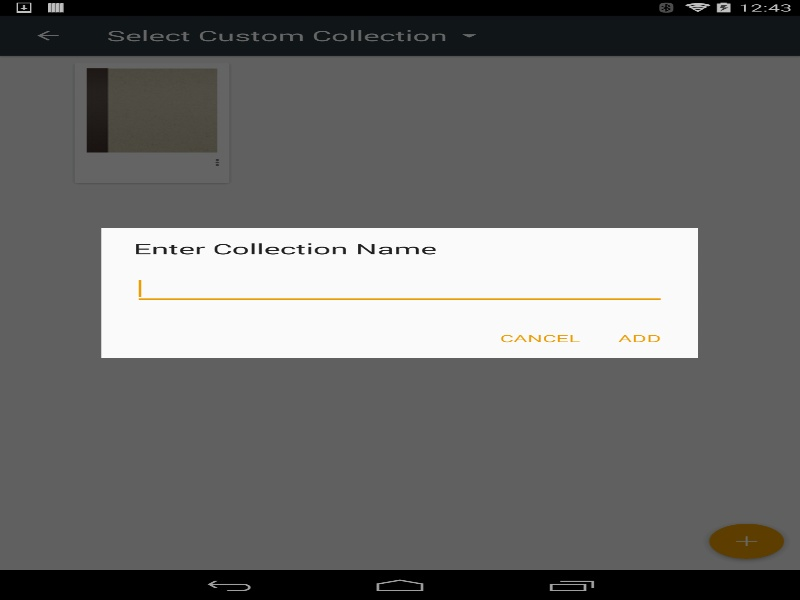Button: (484, 321, 596, 355), (596, 321, 682, 355)
Input: (133, 273, 666, 304)
